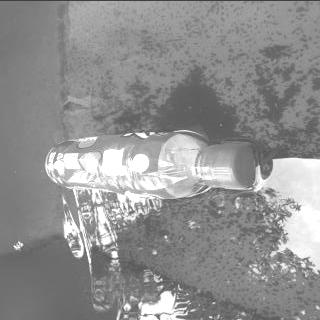bottle: (42, 130, 258, 200)
